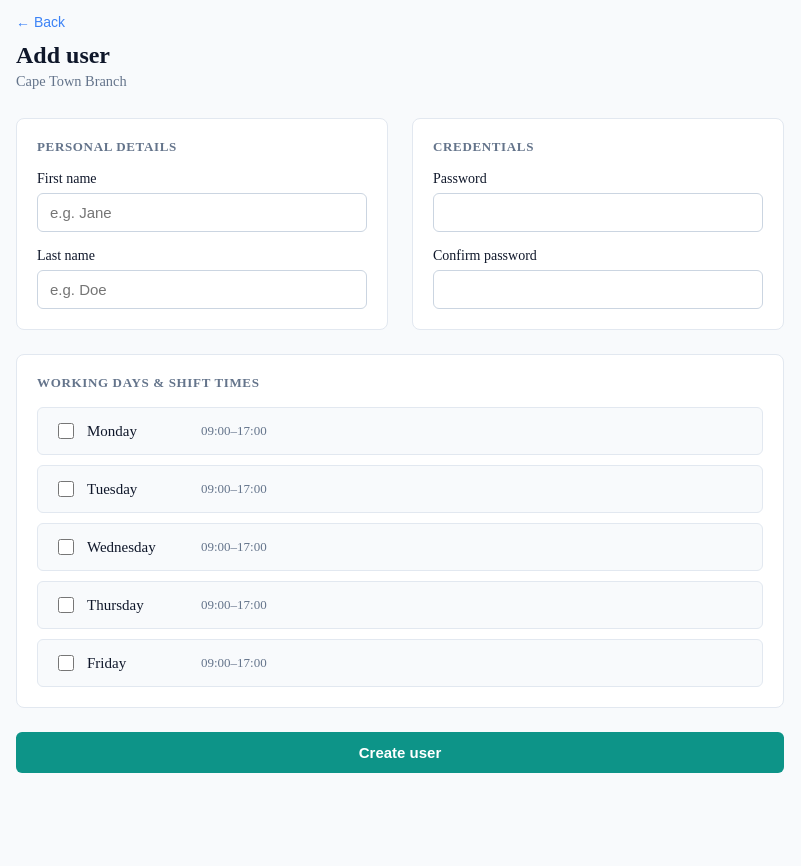
Test: AddUserView › shows shift inputs for a day when its checkbox is ticked
Step 1. Click the checkbox with test id "work-day-monday" → [66, 431], box 58,423 -> 74,439
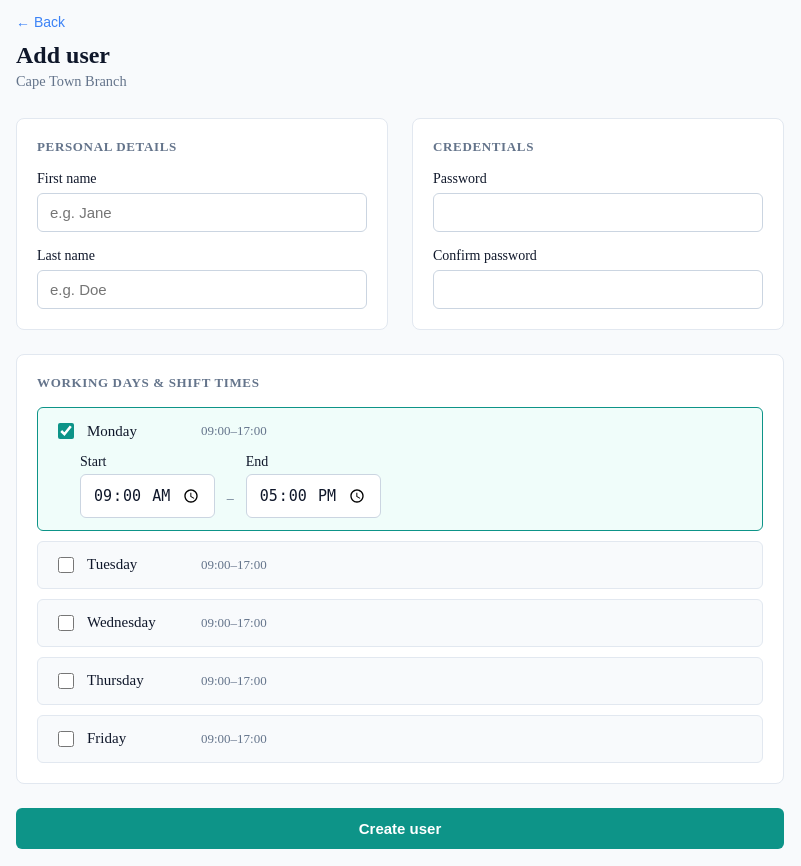
Check: the time field with test id "shift-start-monday" is shown, box 80,474 -> 215,518
Check: the time field with test id "shift-end-monday" is shown, box 246,474 -> 381,518
